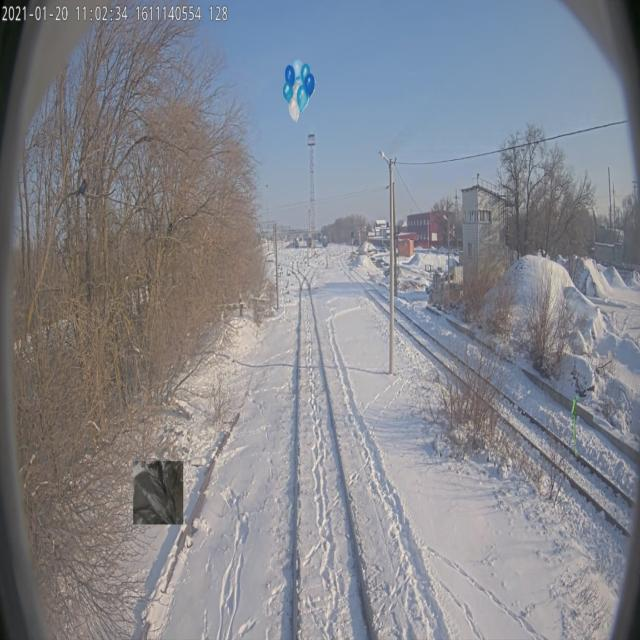balloon: (283, 59, 315, 122)
floating object: (571, 396, 578, 460)
plastic bag: (133, 460, 183, 524)
